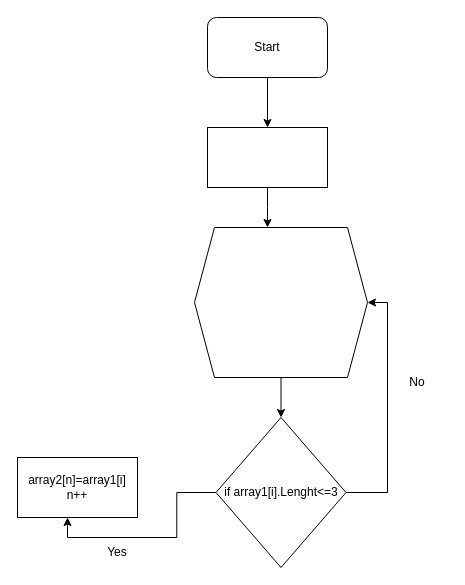
This 465x585 diagram has some shape labels left out. The shapes that lost their labels are listed below. From the top down, each one's box as (x1, y1, x2, y2) in pixels, then its label:
(206, 126, 328, 188): string[]array1 string[]array2 n=0
(194, 226, 368, 378): fot i=0 to i<array1.Lenght i++
